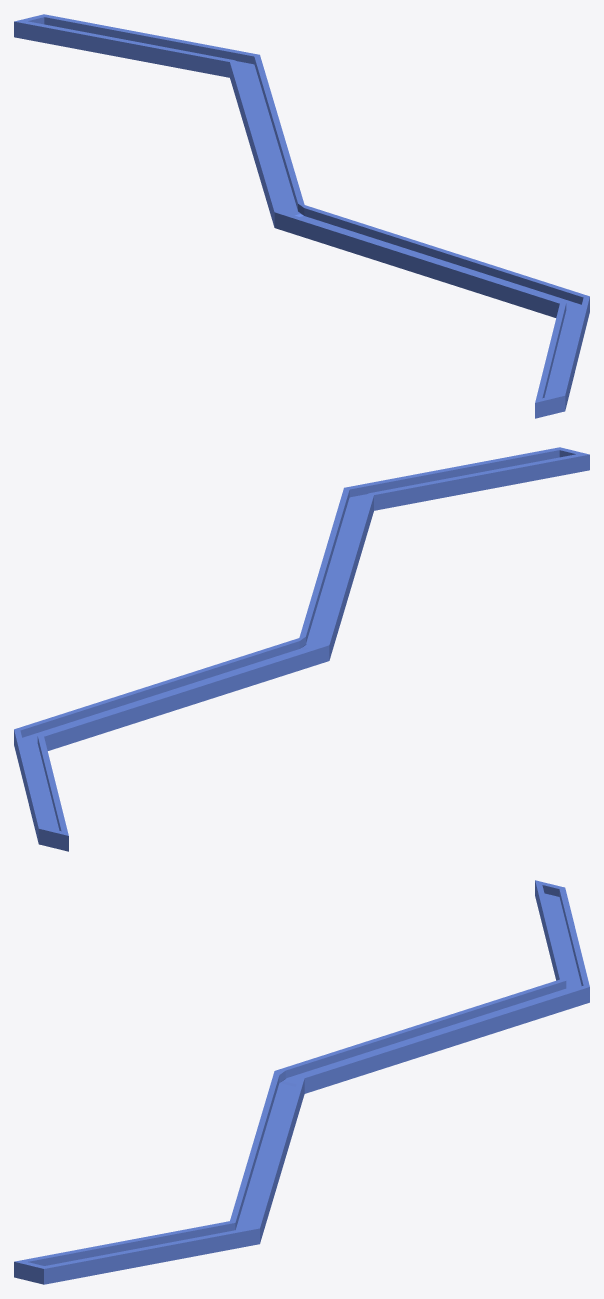
Rendered from pista1.fbx.
The picture shows the model from 3 angles, top to bottom: view 1: azimuth 30°, elevation 25°; view 2: azimuth 150°, elevation 25°; view 3: azimuth 330°, elevation 25°; orthographic projection.
Parts seen in each view (by area): view 1: Gelo; view 2: Gelo; view 3: Gelo.
Part boxes in pixels (x1,y1,x2,y2): Gelo: (14, 14, 589, 418); Gelo: (14, 447, 589, 851); Gelo: (14, 880, 589, 1284).
Bounding box in the file's own units: 1000 × 100 × 6000.
